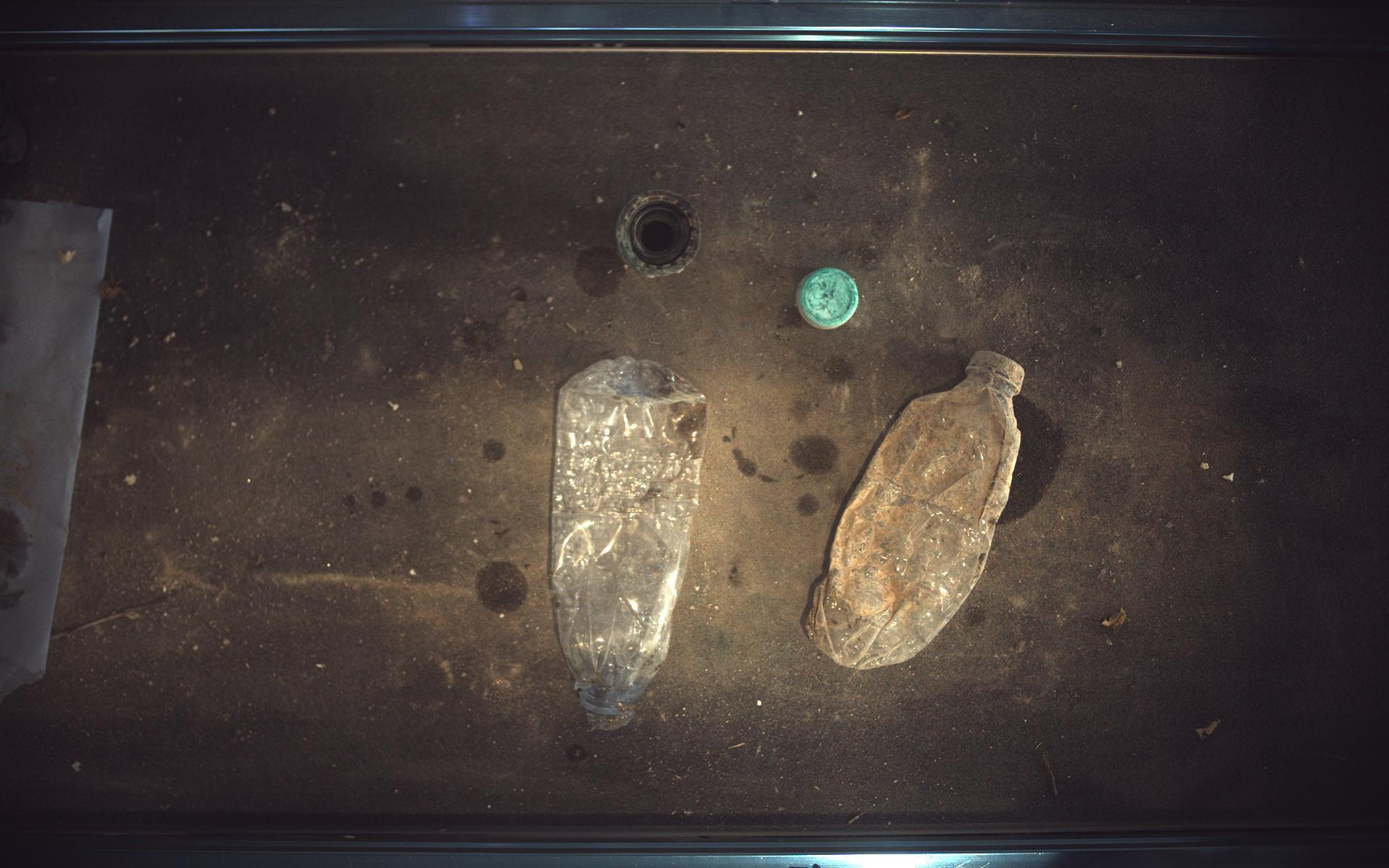general_w: (807, 351, 1027, 670), (551, 356, 708, 731), (798, 267, 861, 329)
plastic: (616, 189, 702, 277)
